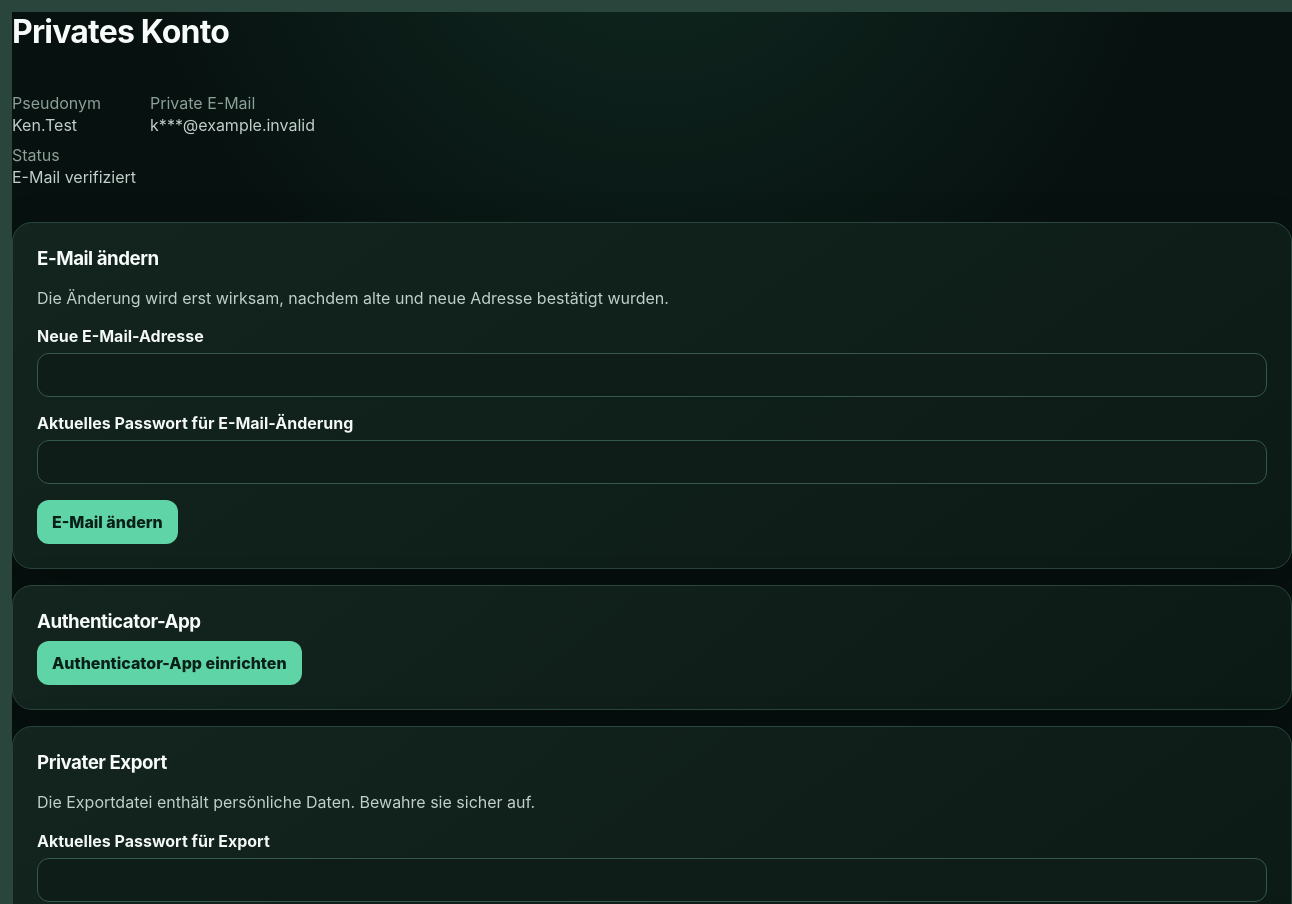
Test: AccountSettings › requires the current password and explains dual confirmation for an email change
Expected: the text "Die Änderung wird erst wirksam, nachdem alte und neue Adresse bestätigt wurden." is shown, [37,288,669,308]
Type "new@example.invalid" into the field labelled "Neue E-Mail-Adresse" at (652, 375), box [37,353,1267,397]
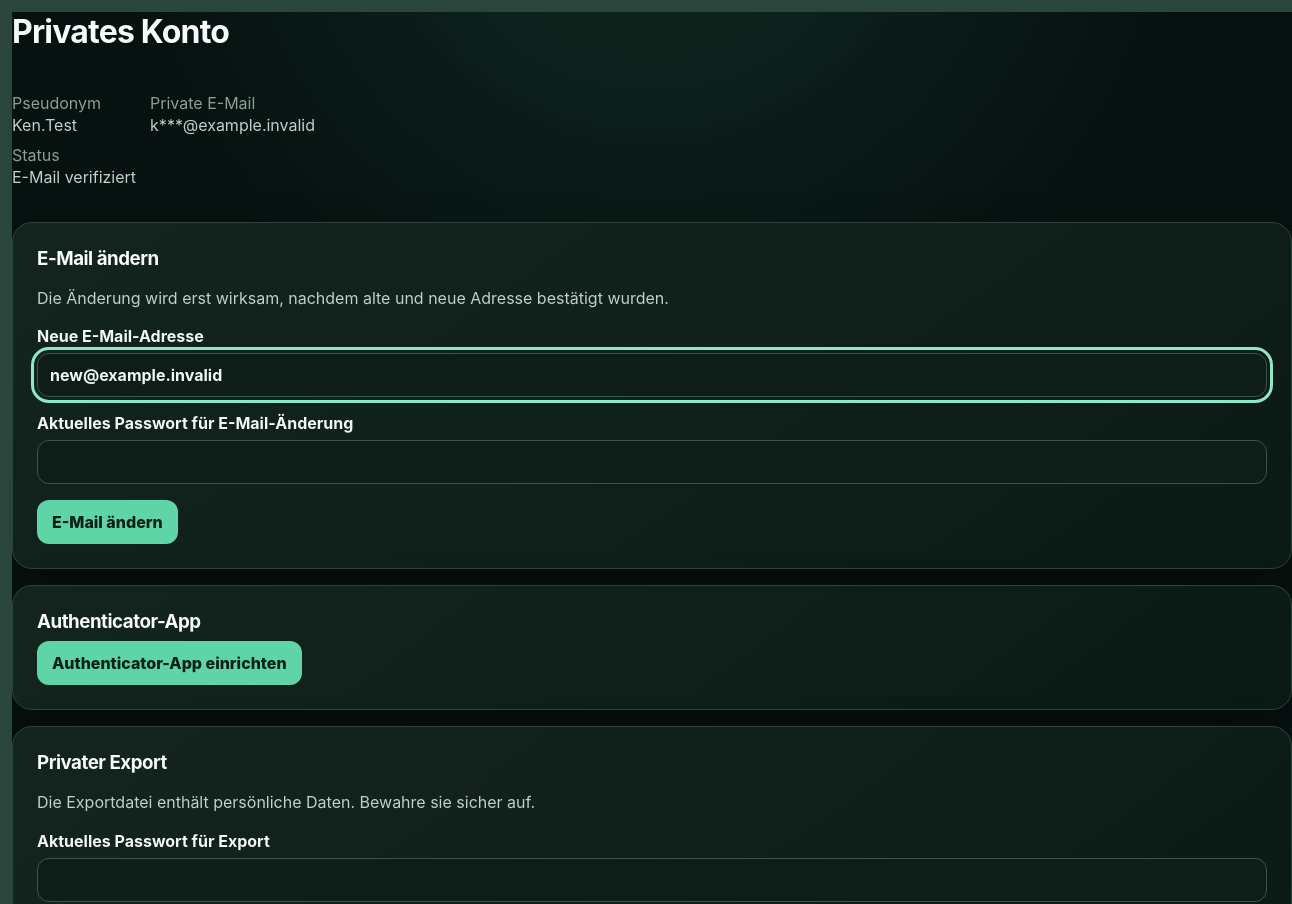
Type "synthetic-password" into the password field labelled "Aktuelles Passwort für E-Mail-Änderung" at (652, 462), box [37,440,1267,484]
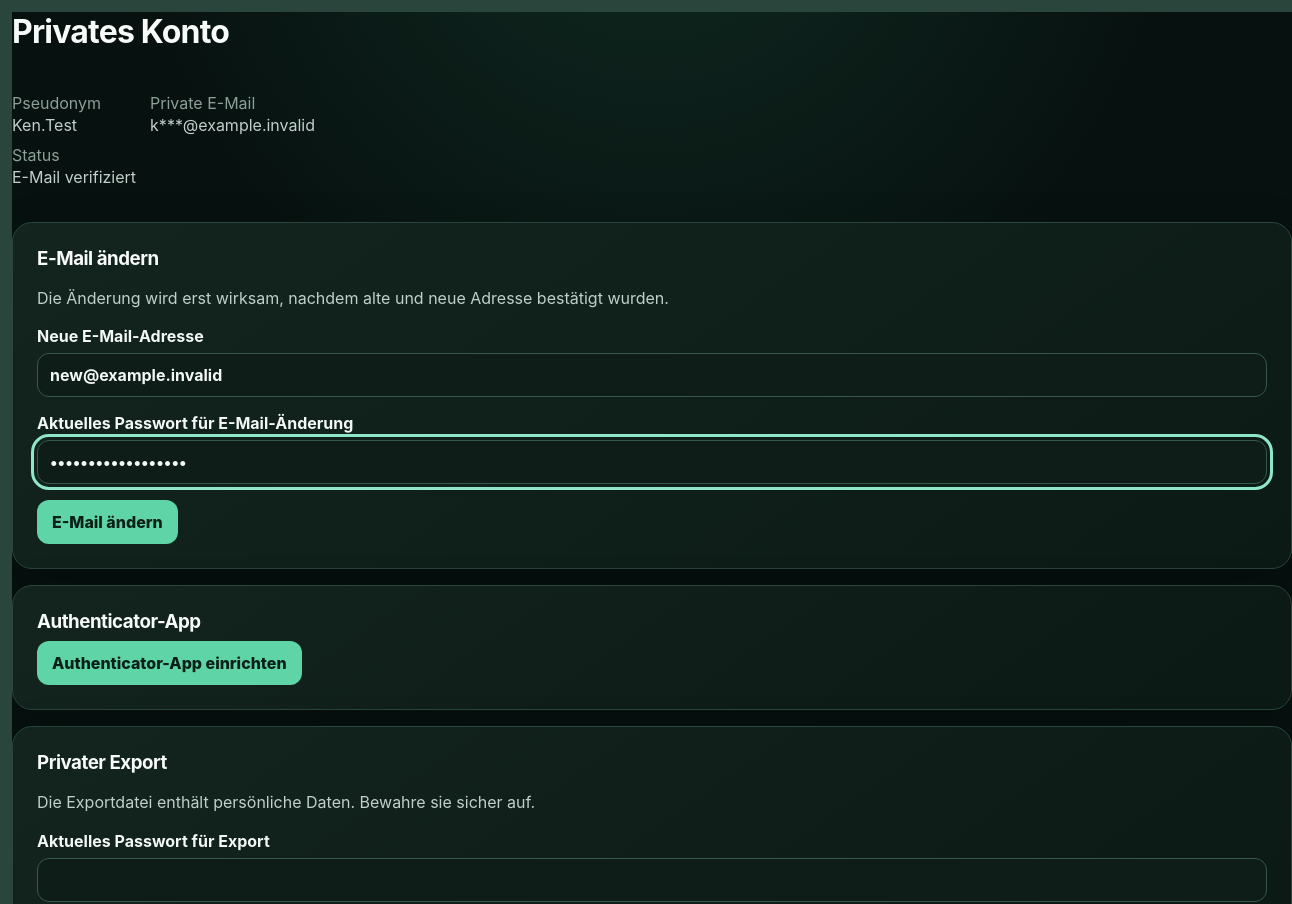
Click the button "E-Mail ändern" at (107, 522), box [37,500,178,544]
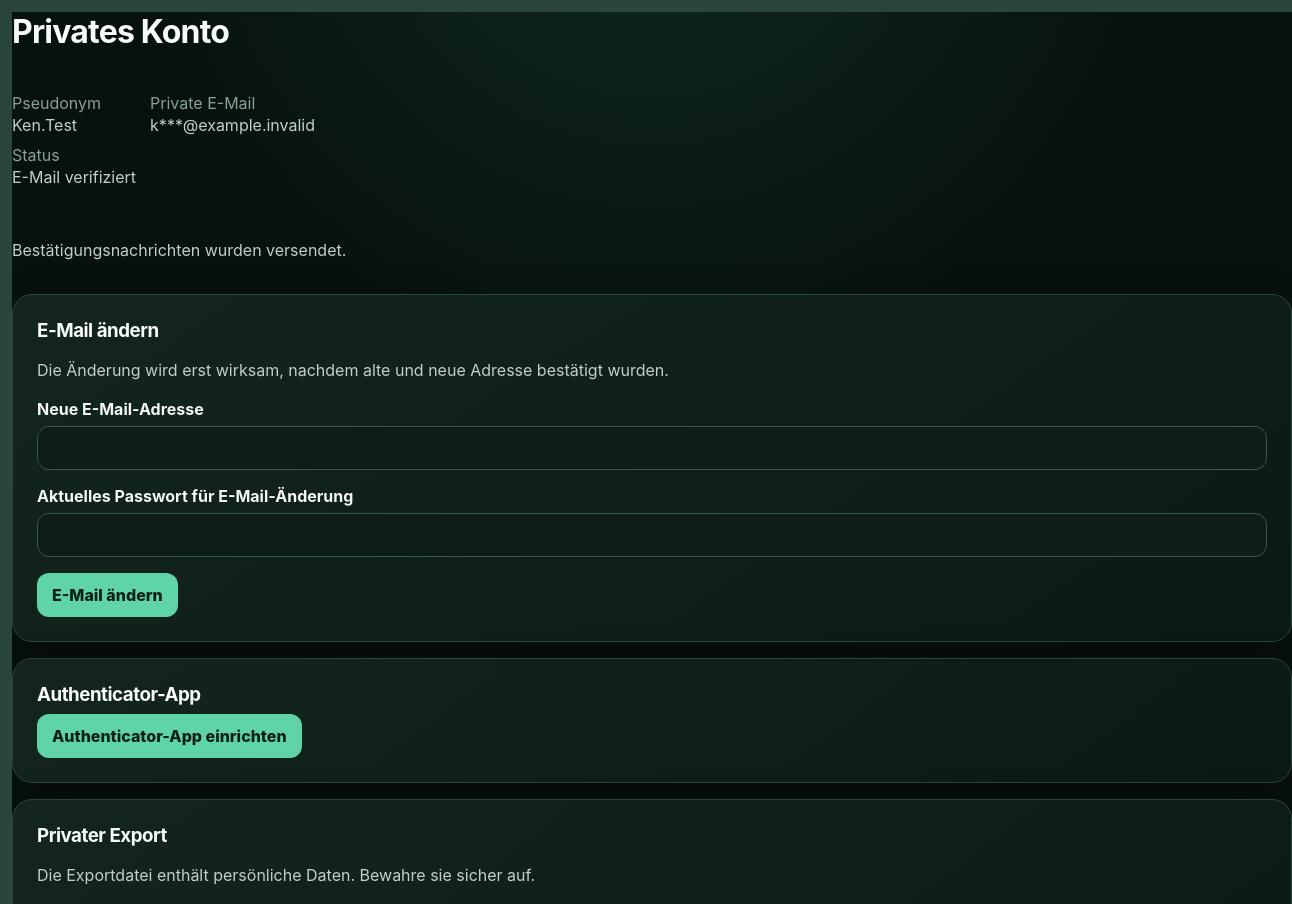
Result: the text "Bestätigungsnachrichten wurden versendet." is shown at [12,240,346,260]
